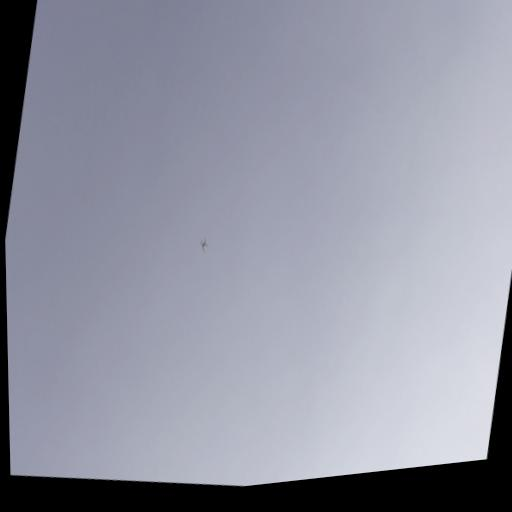drones: (197, 234, 210, 254)
